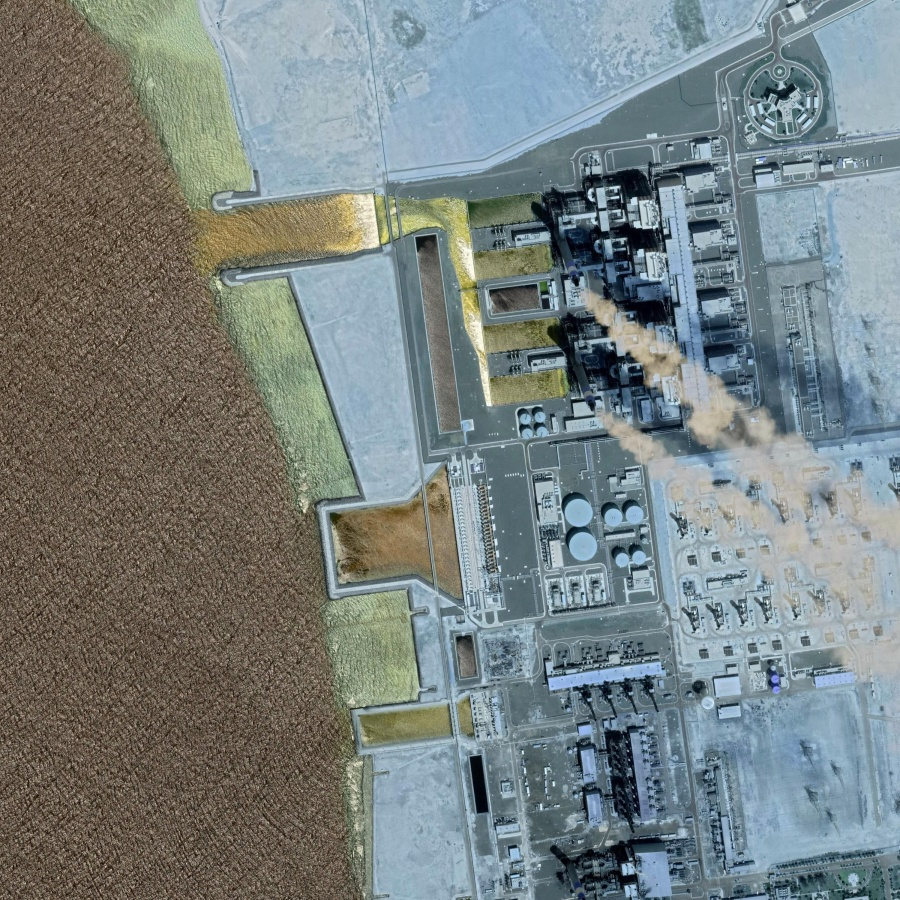PowerPlant: (452, 155, 895, 563)
